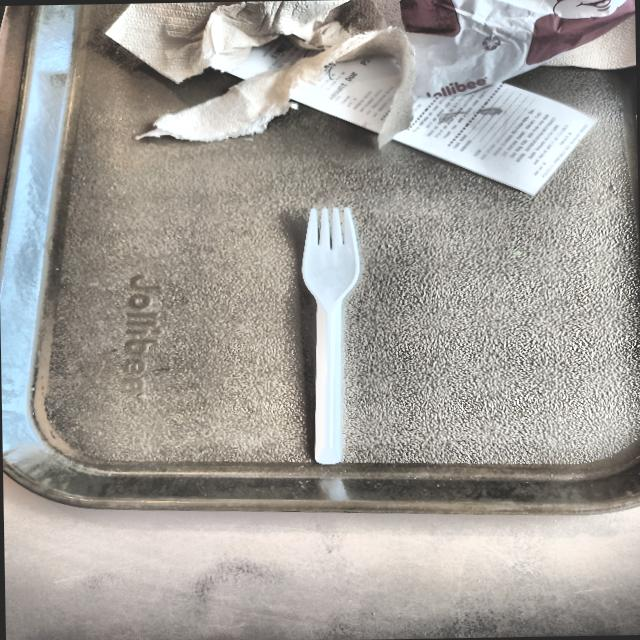plastic utensil: (302, 207, 359, 464)
